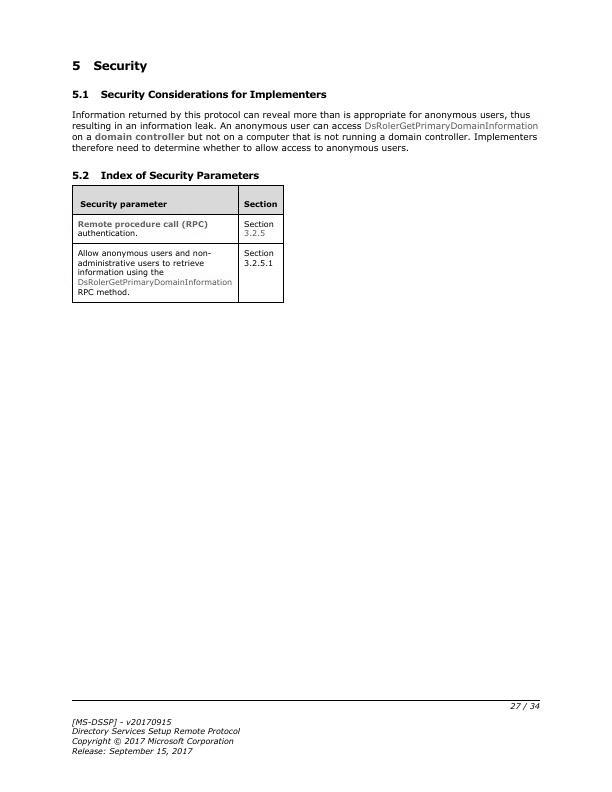table: (73, 186, 284, 303)
text: (70, 108, 541, 155), (68, 714, 242, 756), (70, 89, 330, 101), (71, 169, 262, 181), (67, 57, 150, 75)
